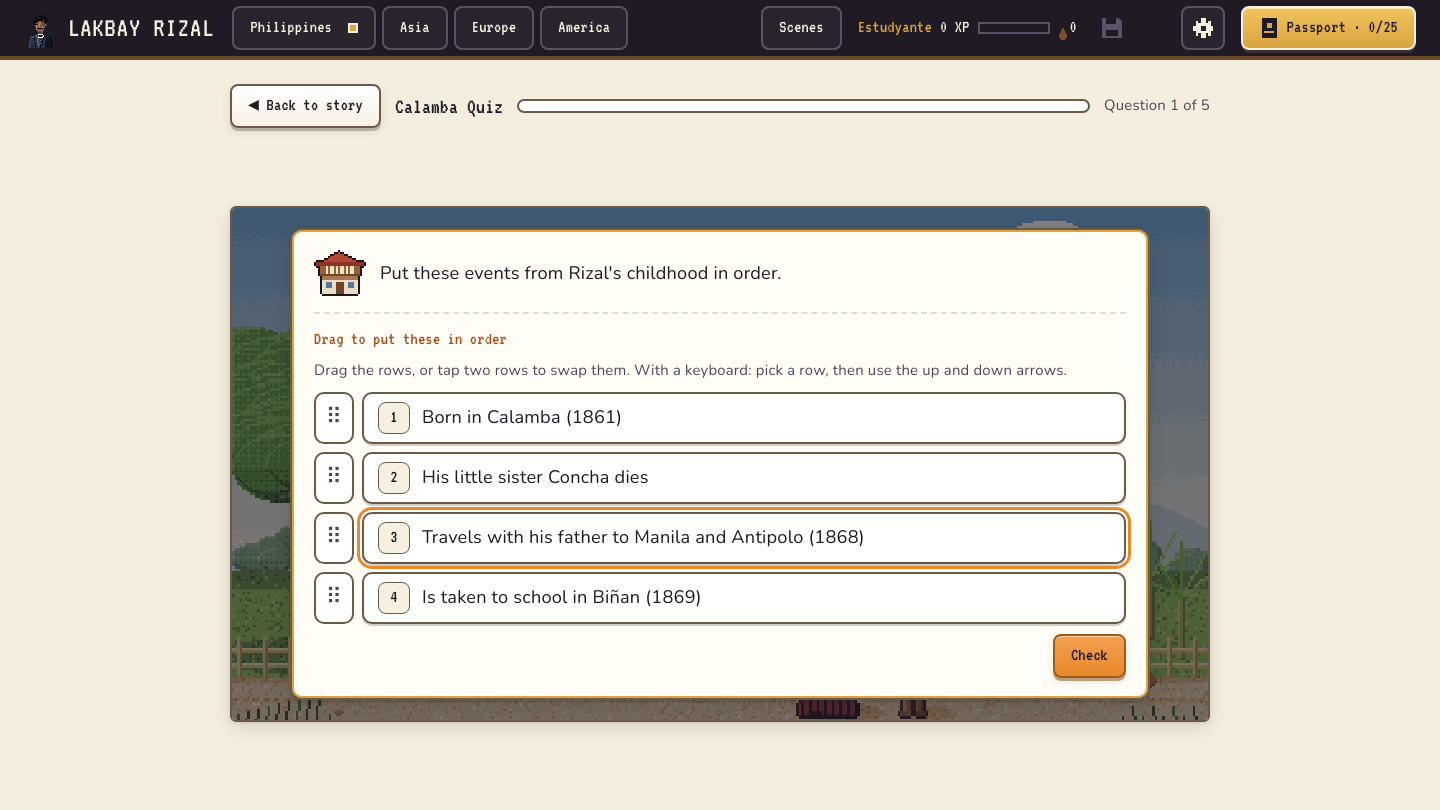
Quiz v3 (FR-40 to FR-43, FR-81, FR-82) › a wrong answer: Not quite, a hint on request, then Try again with no penalty (GD-5)
Earlier steps of the test are not shown.
Click the button "Check" at point(1089, 656), box [1053,634,1126,678]
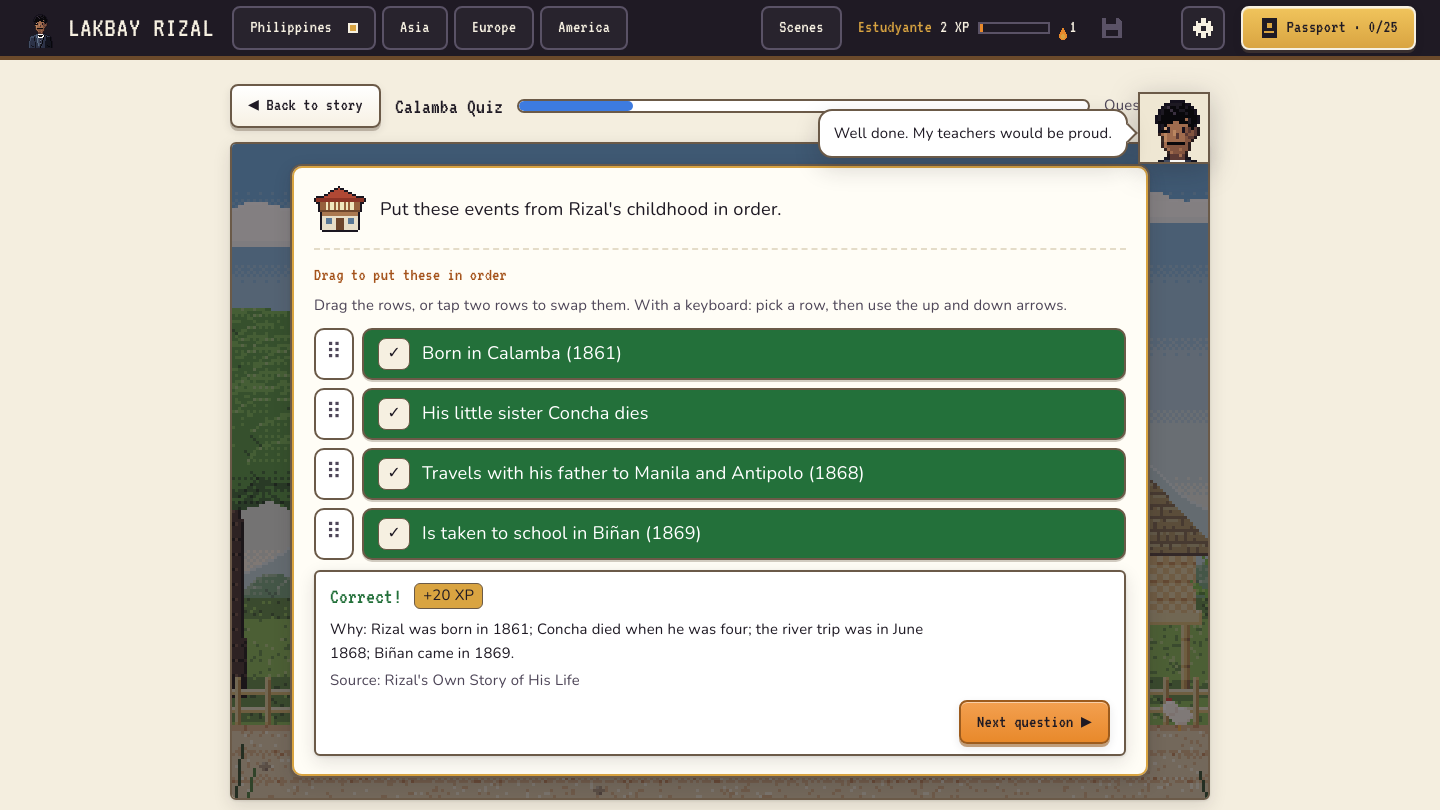
Click the button "Next question ▶" at point(1035, 722), box [959,700,1110,744]
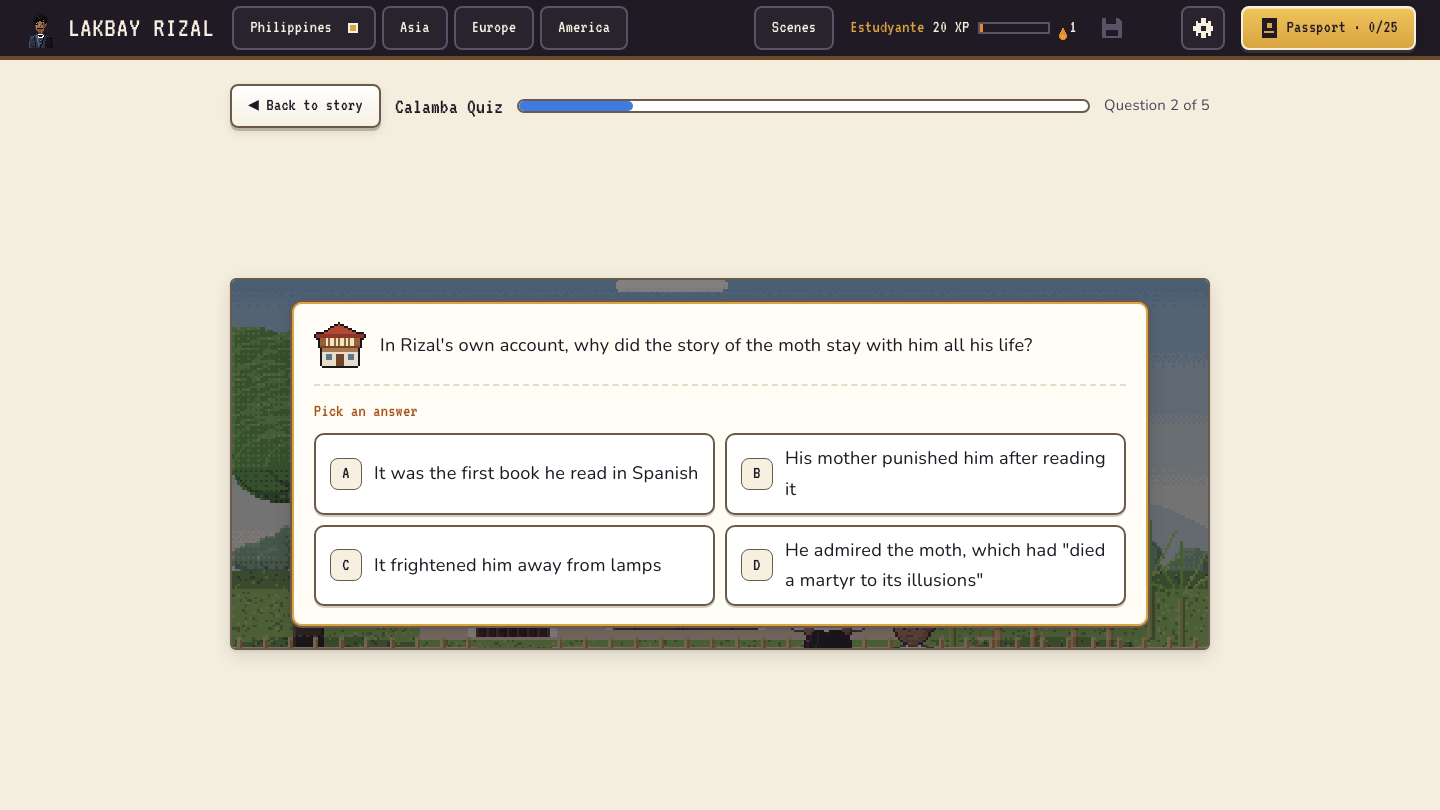
Click the button "C It frightened him away from lamps" at point(514, 566), box [314,525,715,606]
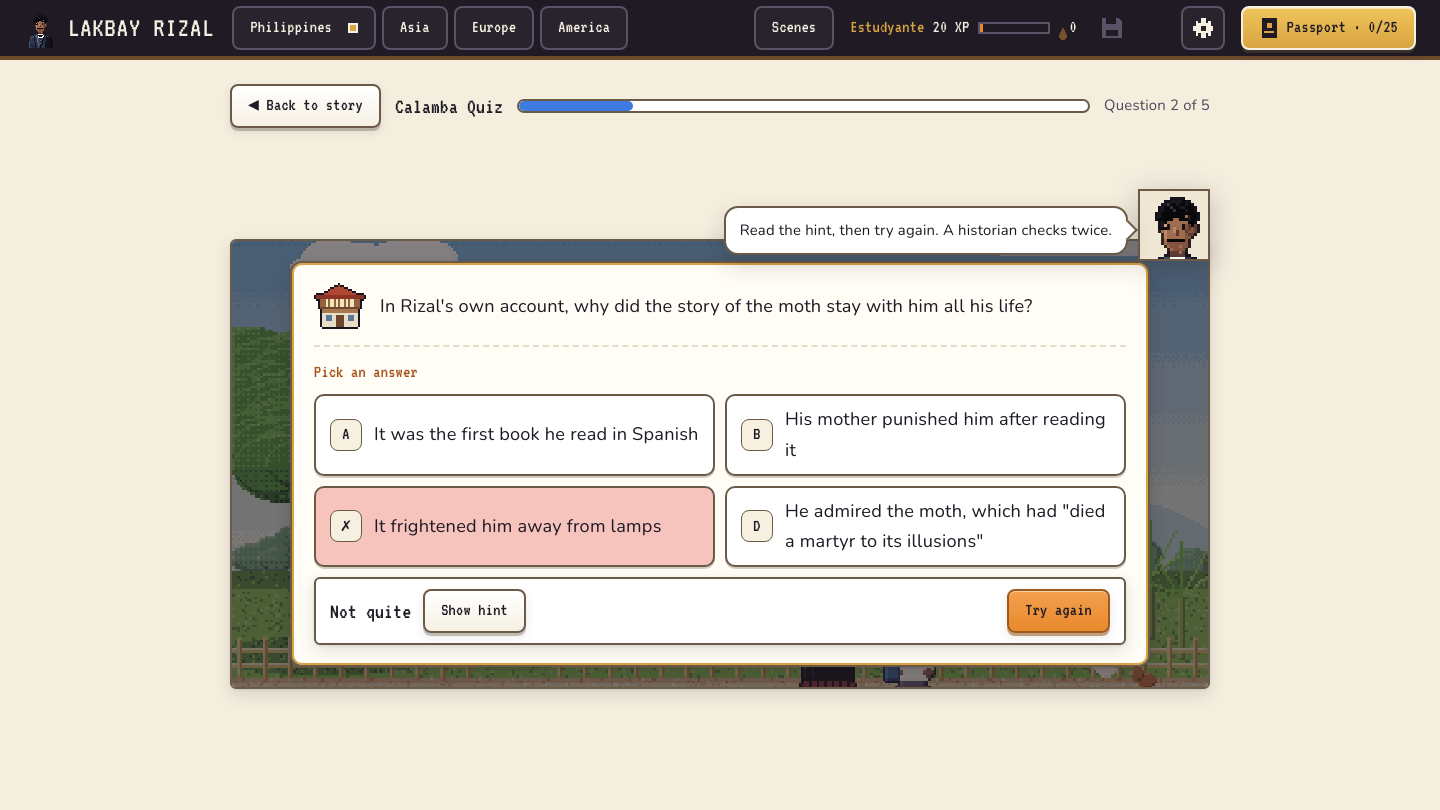
Expected: the button "correct answer" is not shown
Expected: the button named "your answer, not correct" is disabled, [314,486,715,567]
Click the button "Show hint" at point(475, 611), box [423,589,526,633]
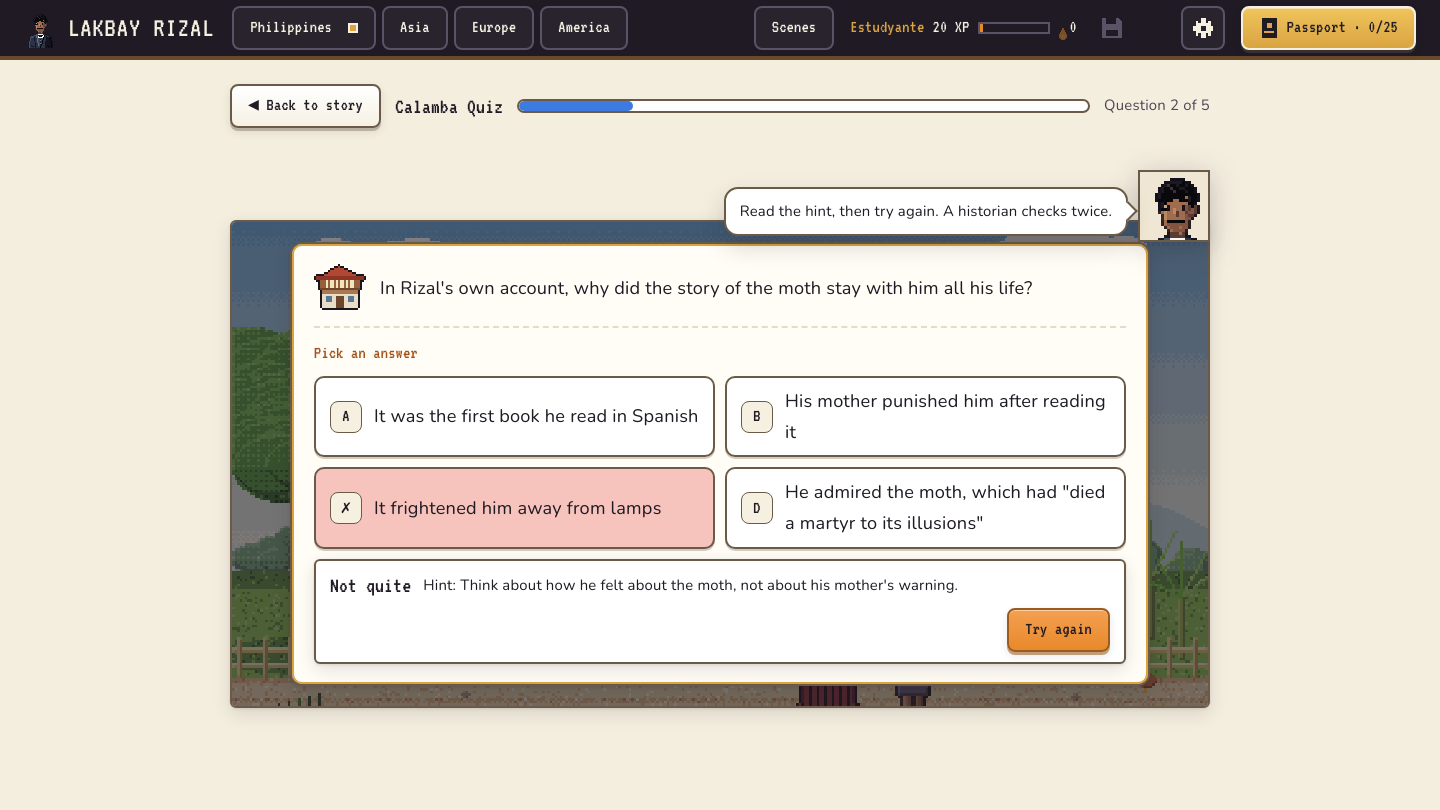
Expected: the text "Hint: " is shown, [423,575,958,595]
Click the button "Try again" at point(1059, 630), box [1007,608,1110,652]
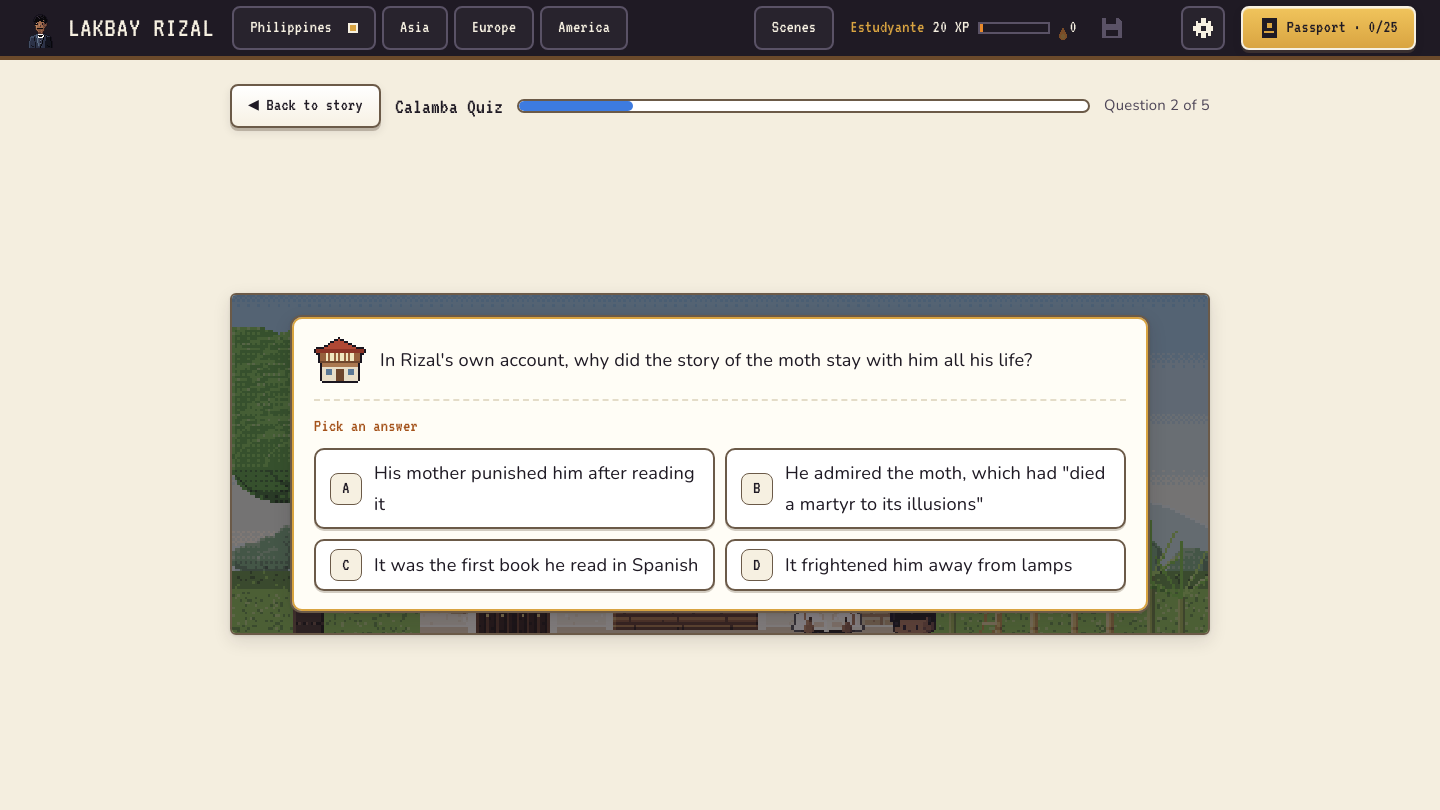
Expected: the text "Question 2 of 5" is shown, [1104,94,1210,118]
Expected: the heading "Not quite" is gone
Click the 2nd button at point(926, 489), box [725,448,1126,530]
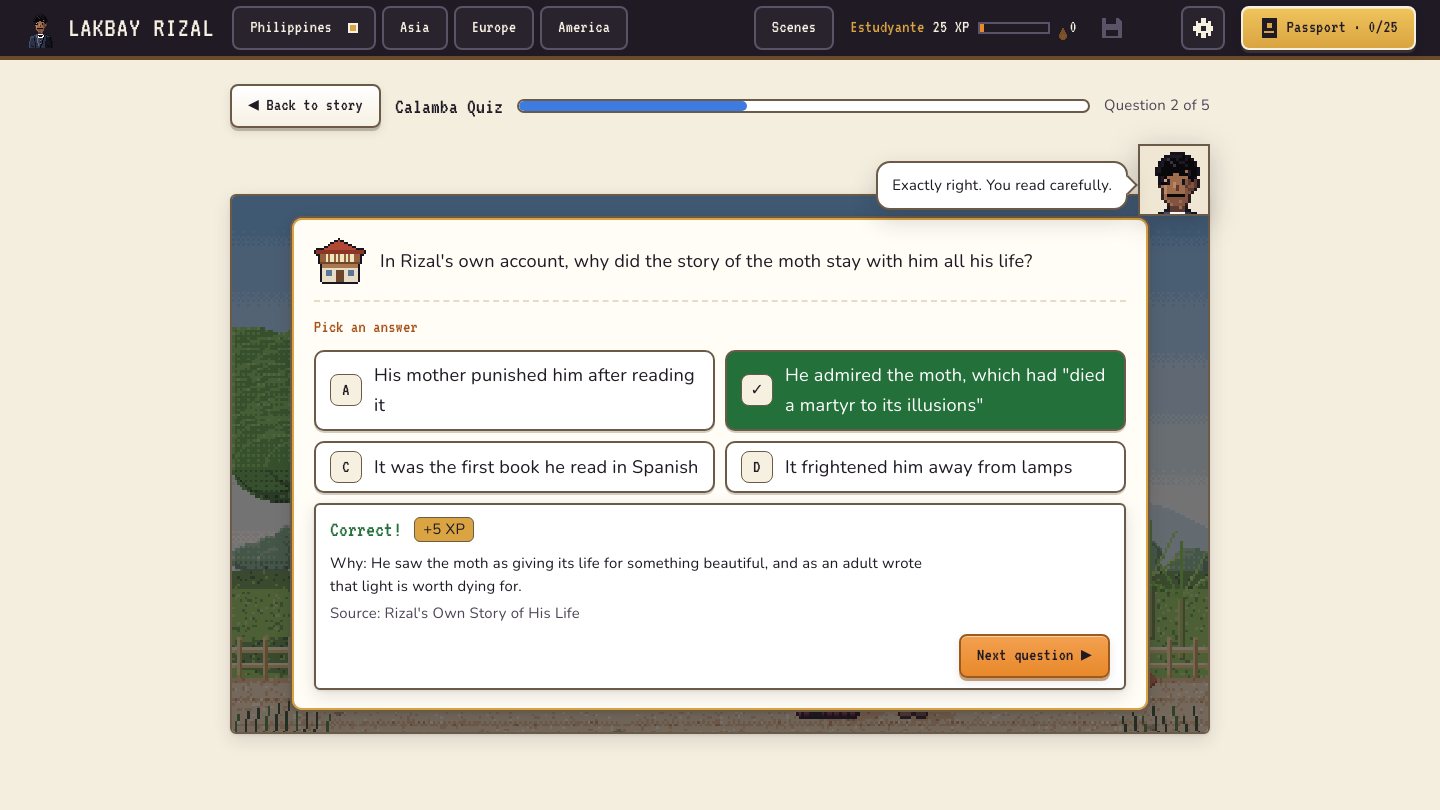
Expected: the heading "Correct!" is shown, [330,515,402,544]
Expected: the text "Why: " is shown, [330,553,922,596]
Expected: the text "Source: Rizal's Own Story of His Life" is shown, [330,604,580,624]
